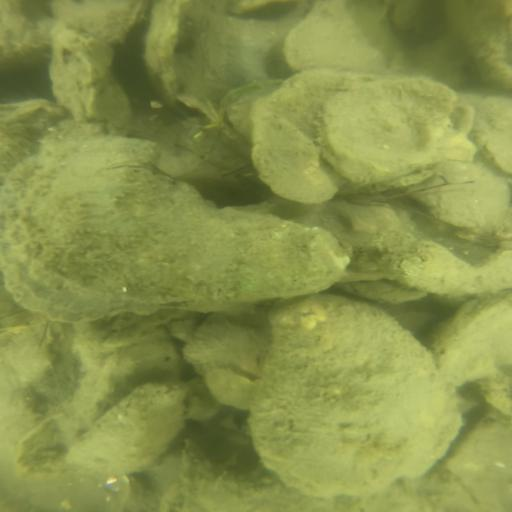Oyster-Closed: (2, 131, 343, 322), (256, 296, 453, 495), (182, 472, 512, 511), (248, 73, 342, 207), (70, 382, 187, 476), (283, 3, 399, 77), (437, 295, 511, 385), (183, 312, 271, 375), (65, 1, 144, 42)
Oyster-Open: (316, 76, 480, 183)
